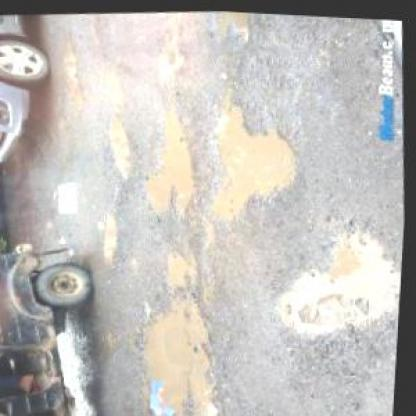pothole: (262, 214, 405, 348), (197, 93, 309, 226), (134, 98, 202, 218), (100, 112, 136, 176), (160, 244, 202, 291), (208, 8, 258, 46), (97, 208, 126, 263)
